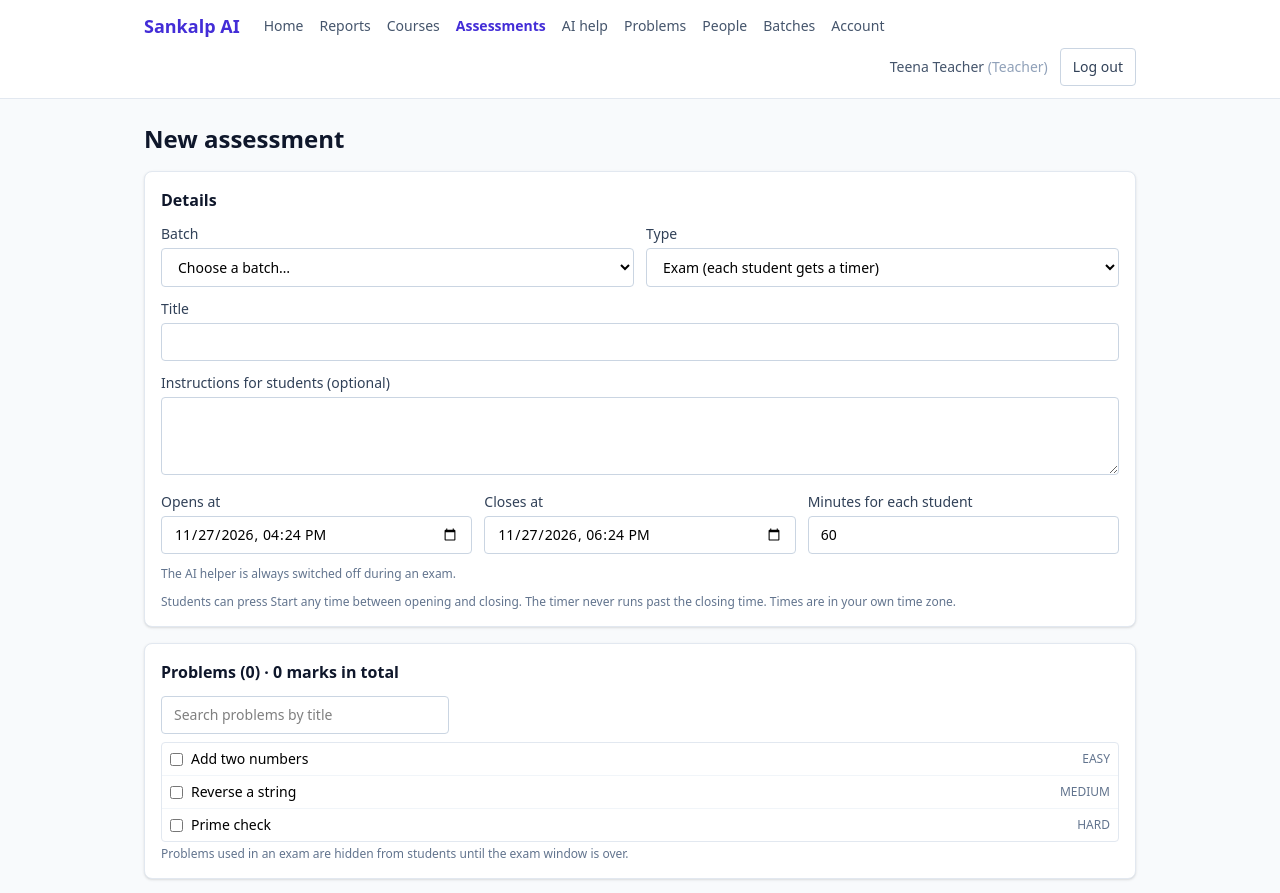
assessment editor: creating › shows the server's message when something is wrong
Select "CSE Sem 3" in the dropdown labelled "Batch" at point(398, 268), box 161,248 -> 634,287
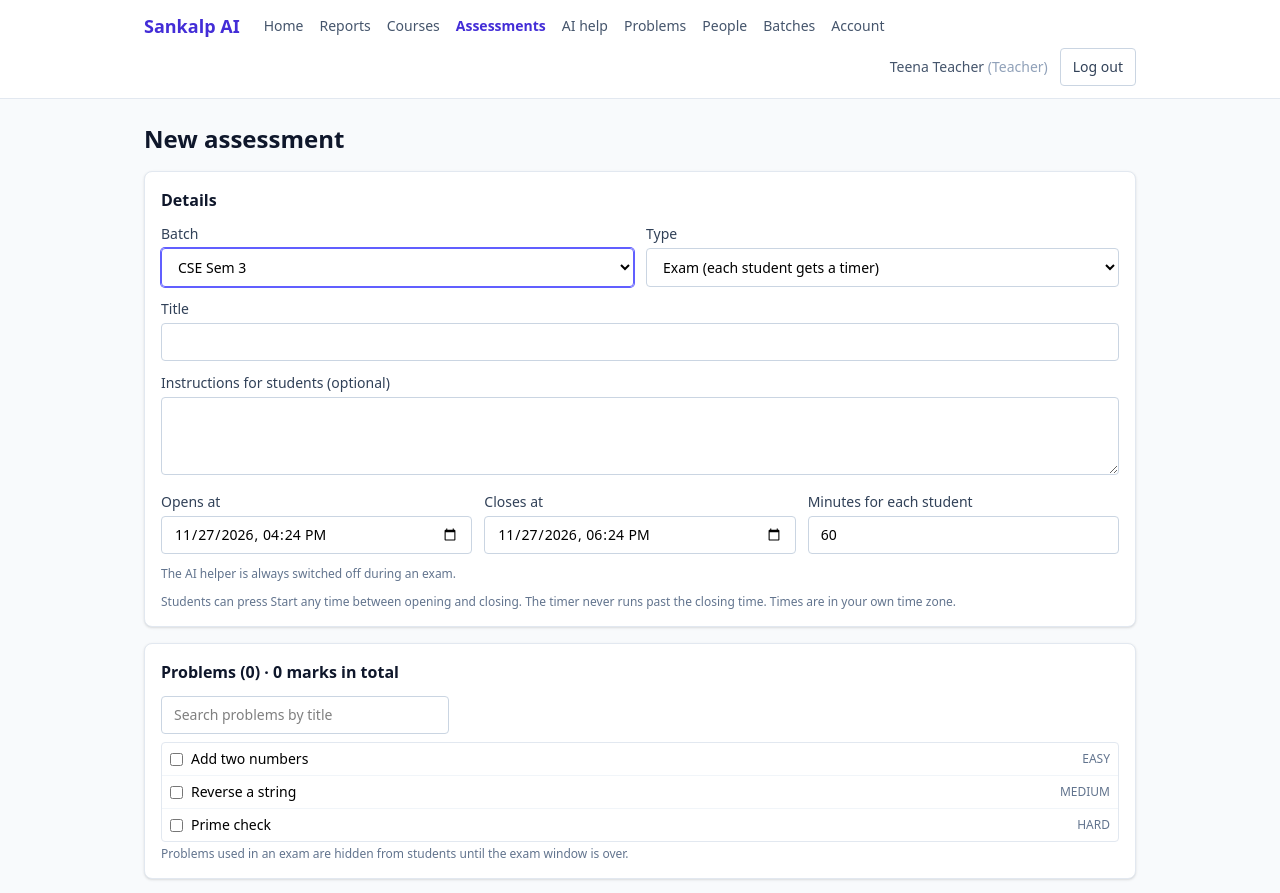
Type "Midterm" into the field labelled "Title" at point(640, 342), box 161,323 -> 1119,361
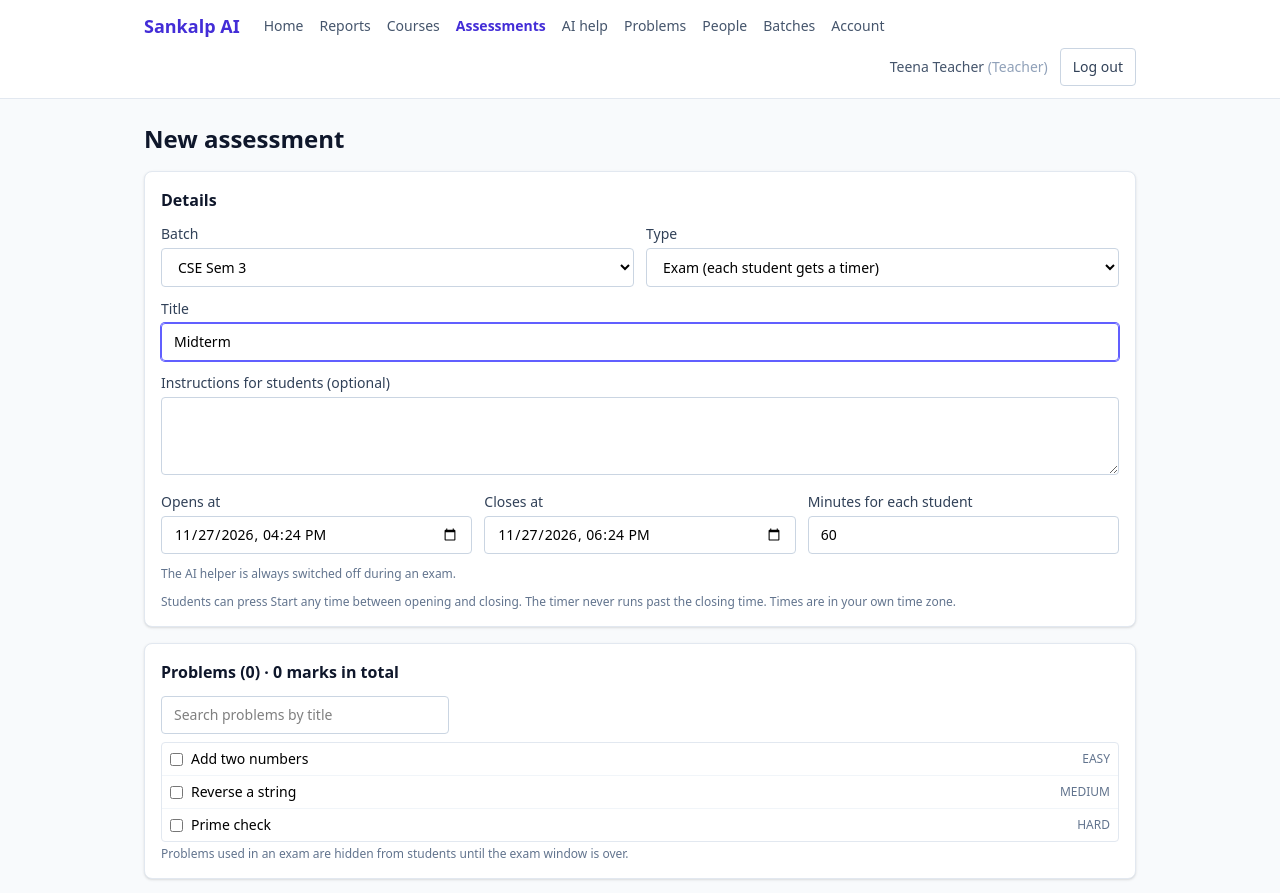
Click the checkbox named "Use Prime check" at point(176, 825), box 170,818 -> 183,832
(page scrolled)
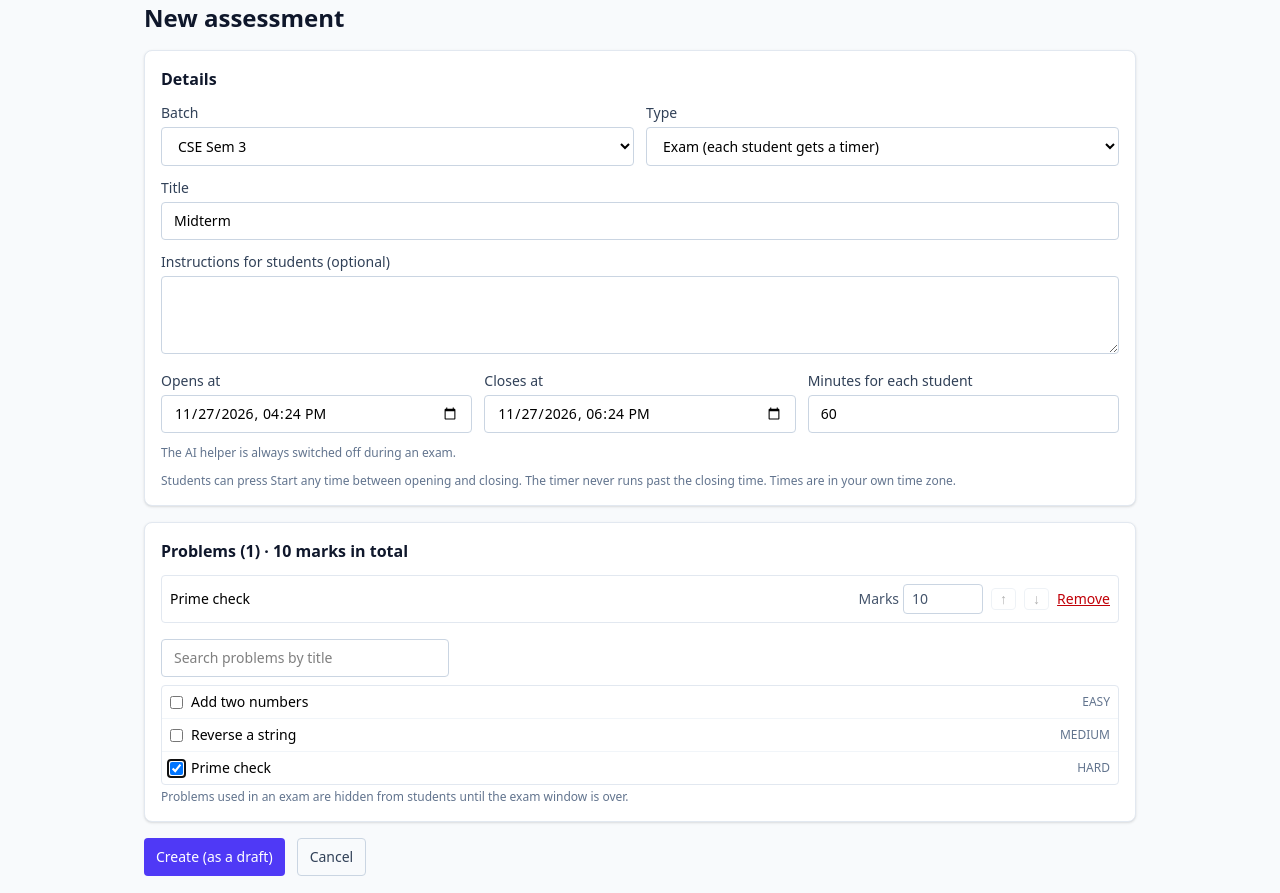
Click the button "Create (as a draft)" at point(214, 857), box 144,838 -> 285,876
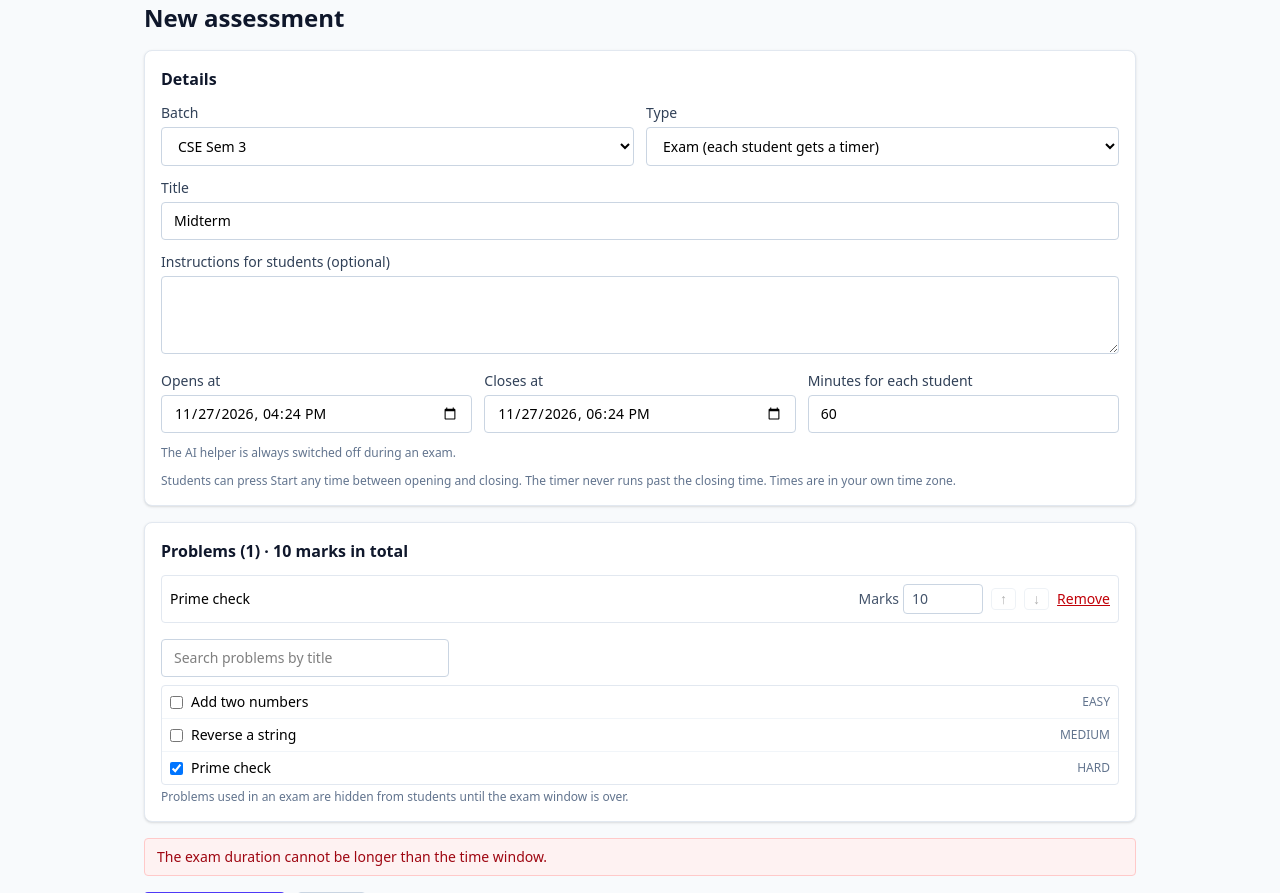
Check: the message shows "longer than the time window", box 157,847 -> 547,866
